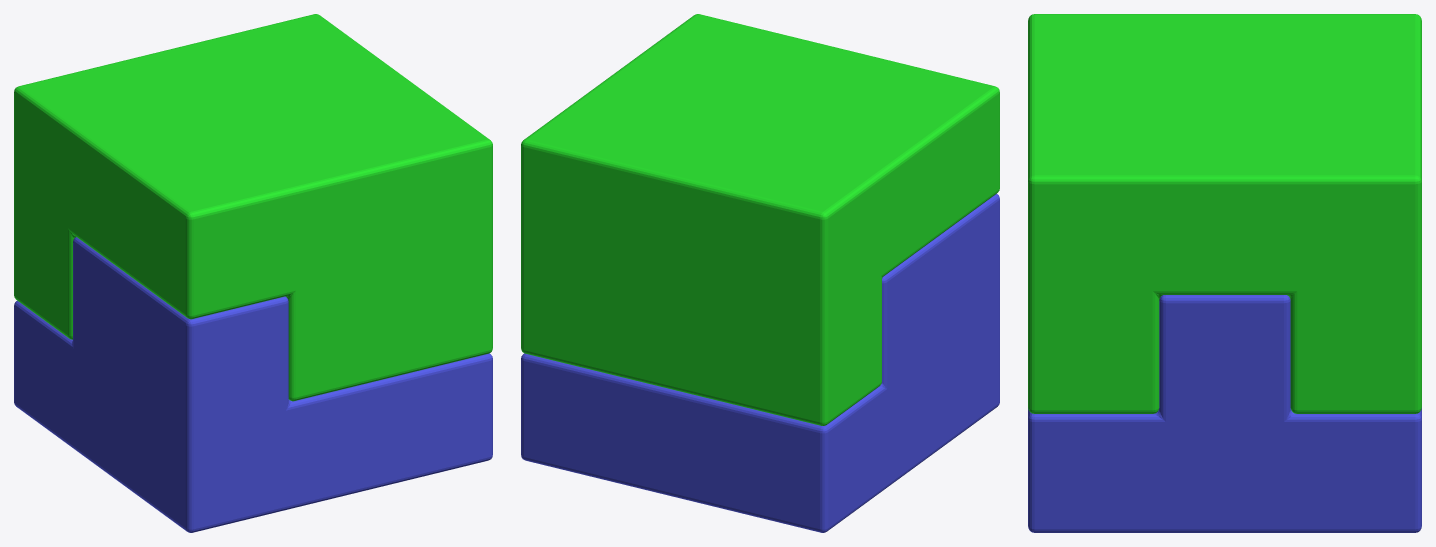
File: Easy2.glb
3 renders of one model, left to right at view 1: azimuth 30°, elevation 25°; view 2: azimuth 150°, elevation 25°; view 3: azimuth 270°, elevation 25°, orthographic. The views are drawn at different scales.
Visible parts, largest first — view 1: top, bottom; view 2: top, bottom; view 3: top, bottom.
Part boxes in pixels (x1,y1,x2,y2): top: (14, 14, 492, 401); bottom: (14, 237, 492, 532); top: (521, 14, 999, 425); bottom: (521, 194, 999, 532); top: (1028, 14, 1421, 413); bottom: (1028, 295, 1421, 532).
Bounding box in the file's own units: 6 × 6 × 6.
